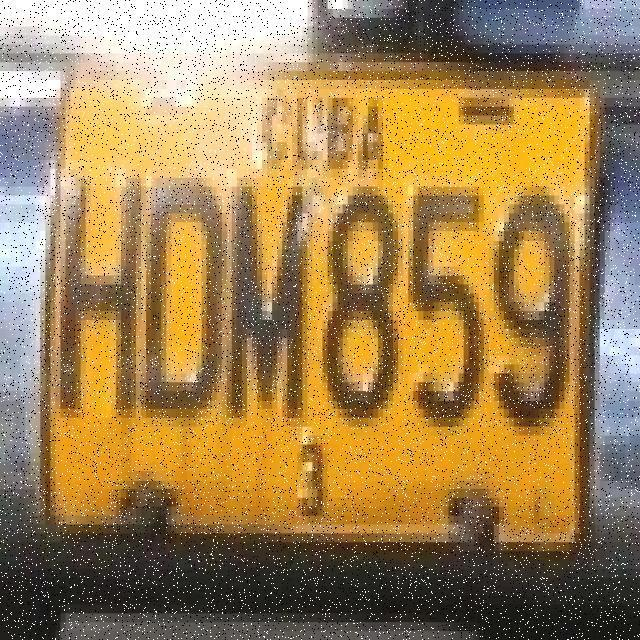LicensePlate: (33, 22, 606, 583)
